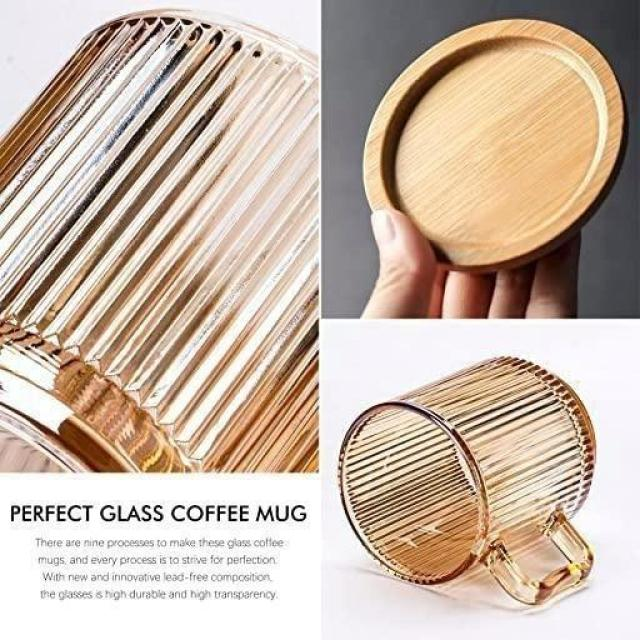glass-mug: (332, 350, 606, 615)
